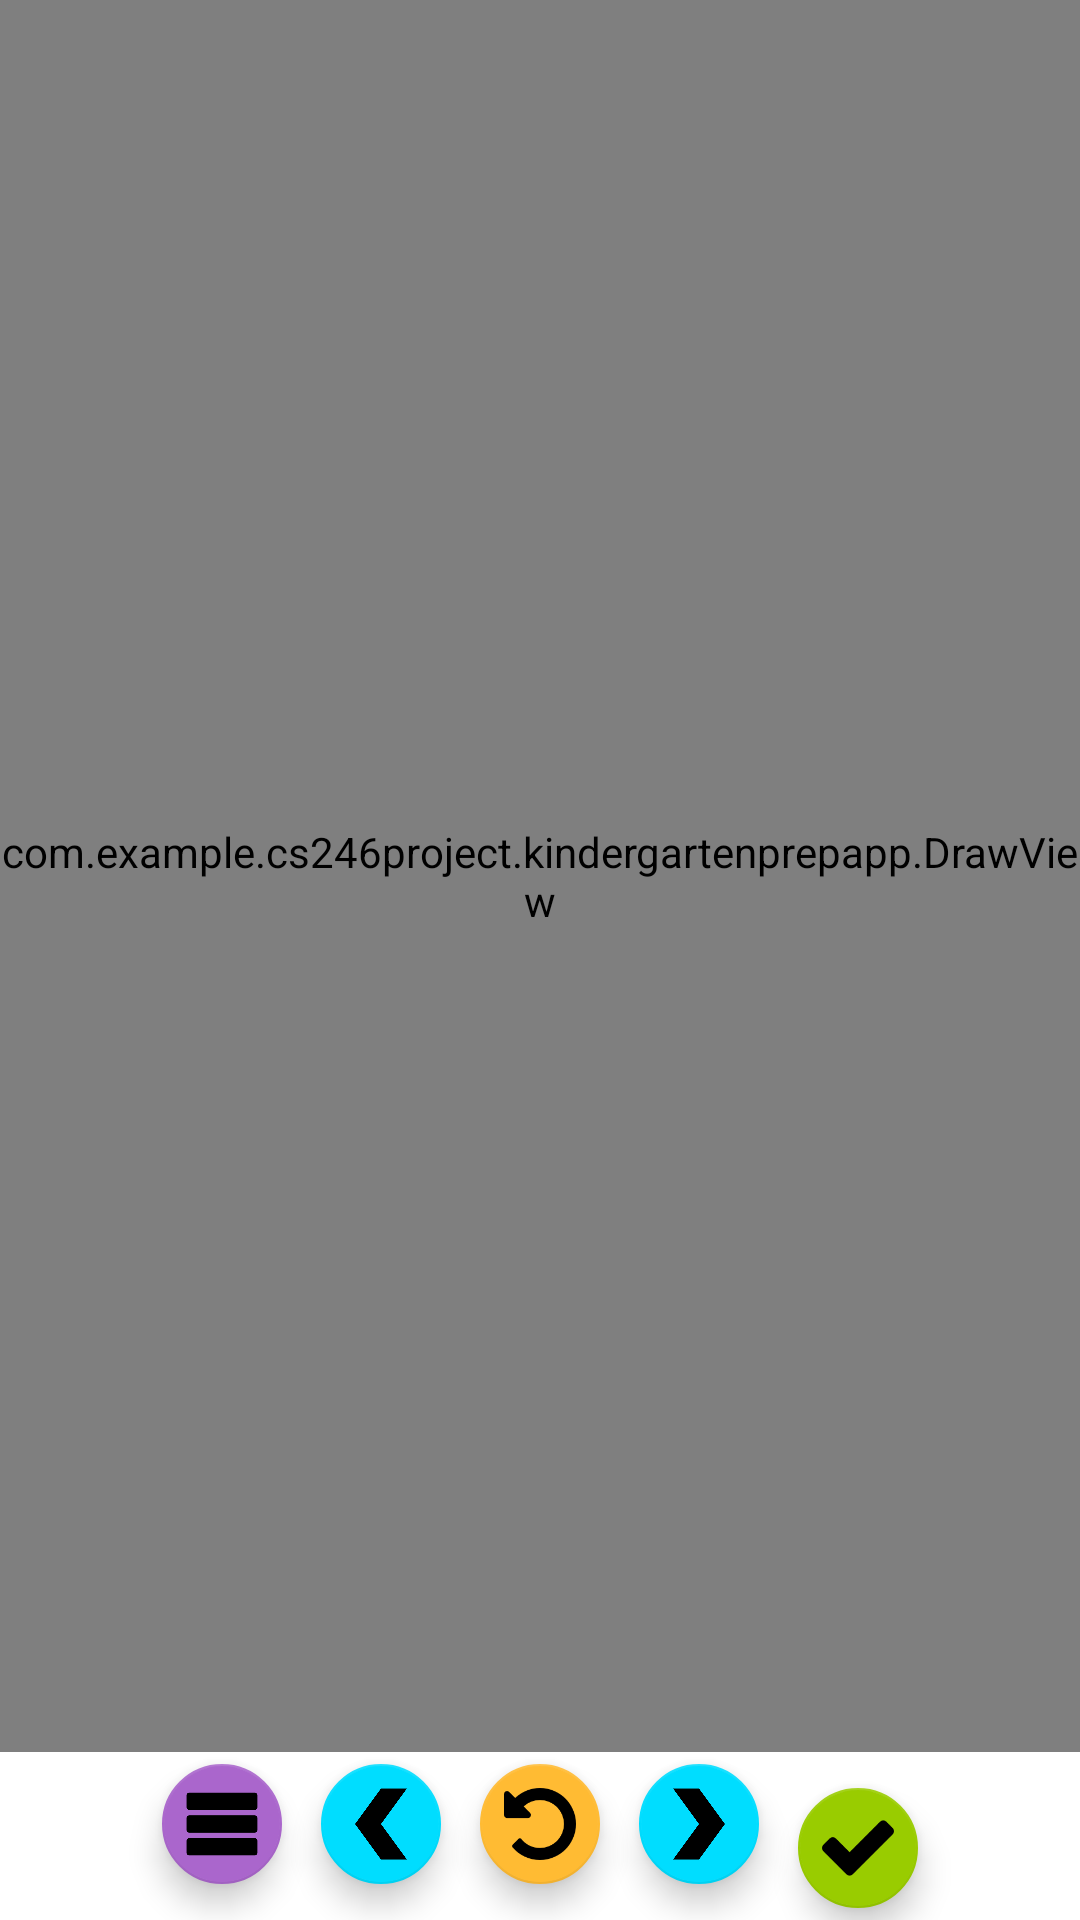

Icons on this 1080*1920 Android screen, each with the point to tap as (x,y):
arrow left: (381,1830)
arrow right: (699,1830)
check: (859,1854)
clear: (540,1830)
menu: (221,1830)
